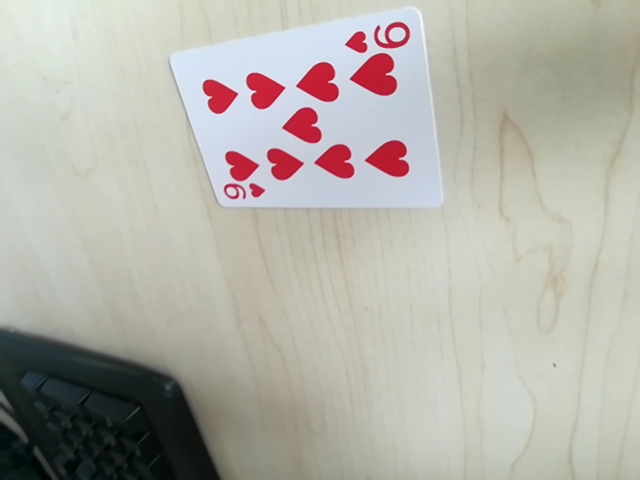hx 9: (346, 16, 415, 55), (216, 180, 265, 206)
